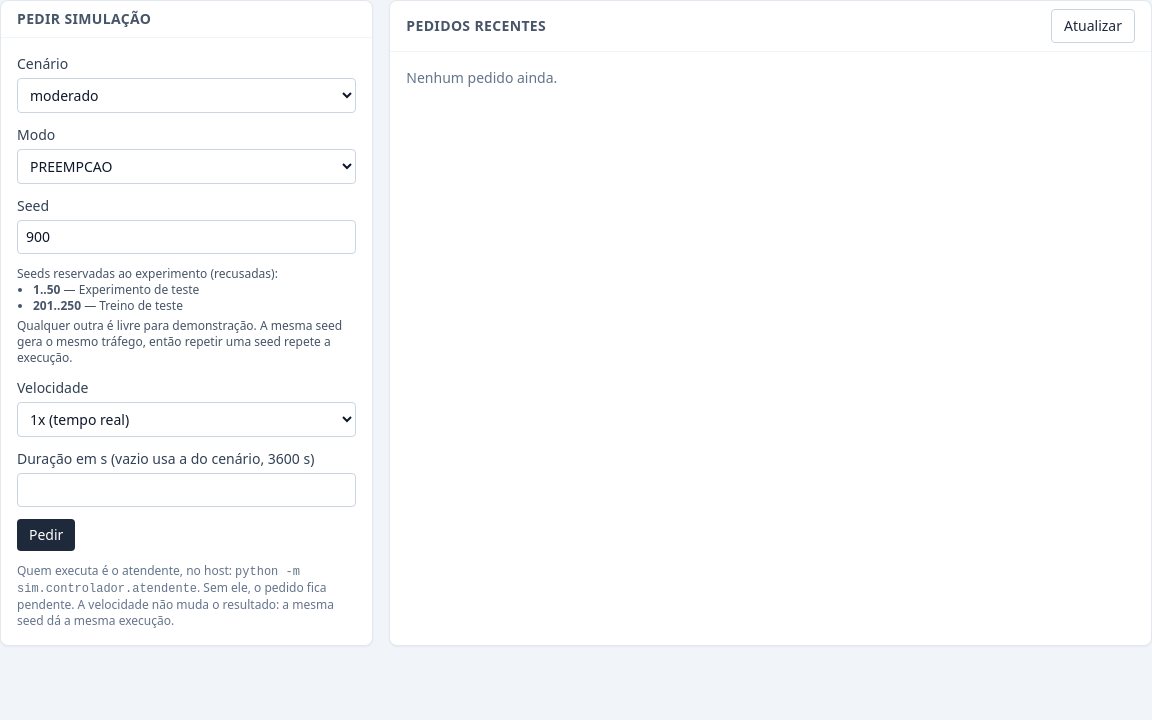
Test: TelaSimulacoes › manda a velocidade escolhida, e a máxima vai como nula
The width and height of the screenshot is (1152, 720).
Select "5x" in the dropdown labelled "Velocidade" at (187, 420), box [17,402,356,437]
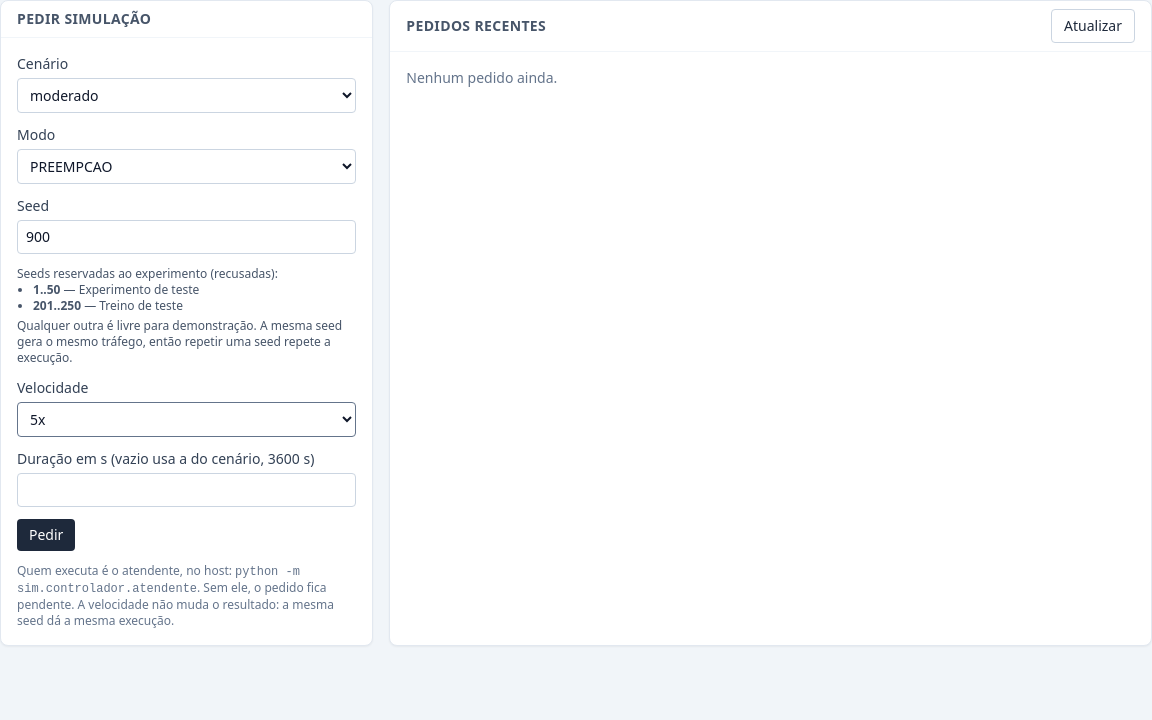
Click the button "Pedir" at (46, 535), box [17,519,75,551]
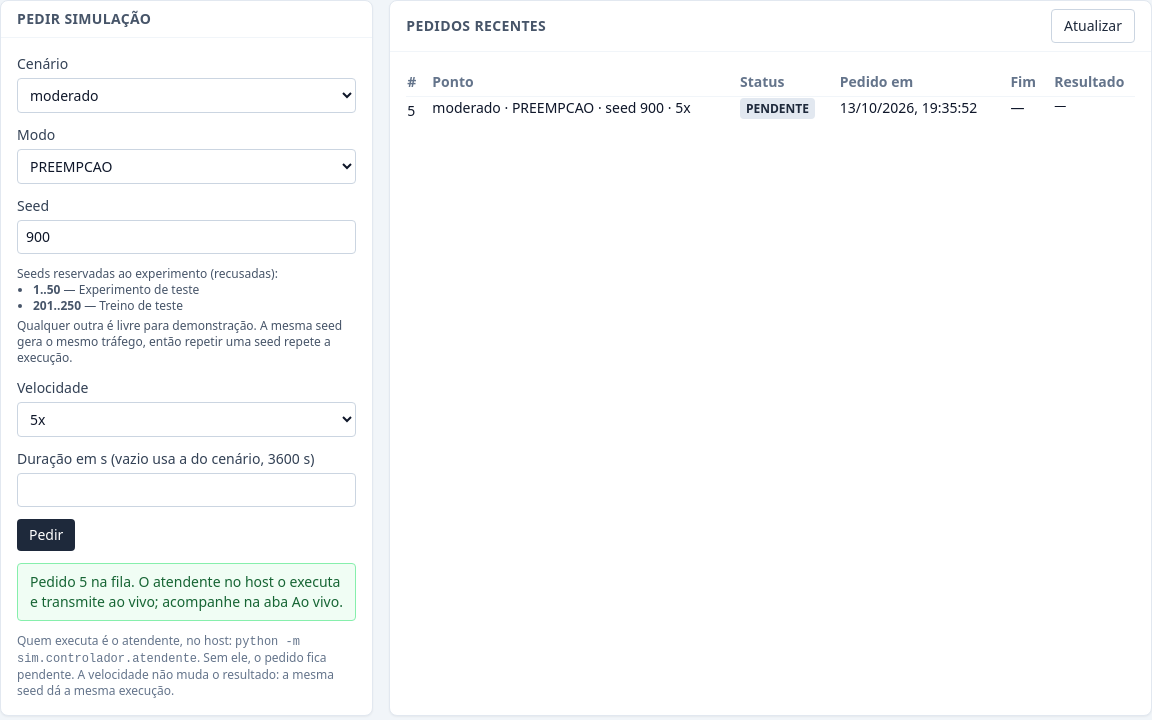
Expected: the text "Pedido 5 na fila" is shown, [30,572,343,611]
Expected: the text "moderado · PREEMPCAO · seed 900 · 5x" is shown, [431,96,739,125]
Select "Máxima (~50x, para não assistir)" in the dropdown labelled "Velocidade" at (187, 420), box [17,402,356,437]
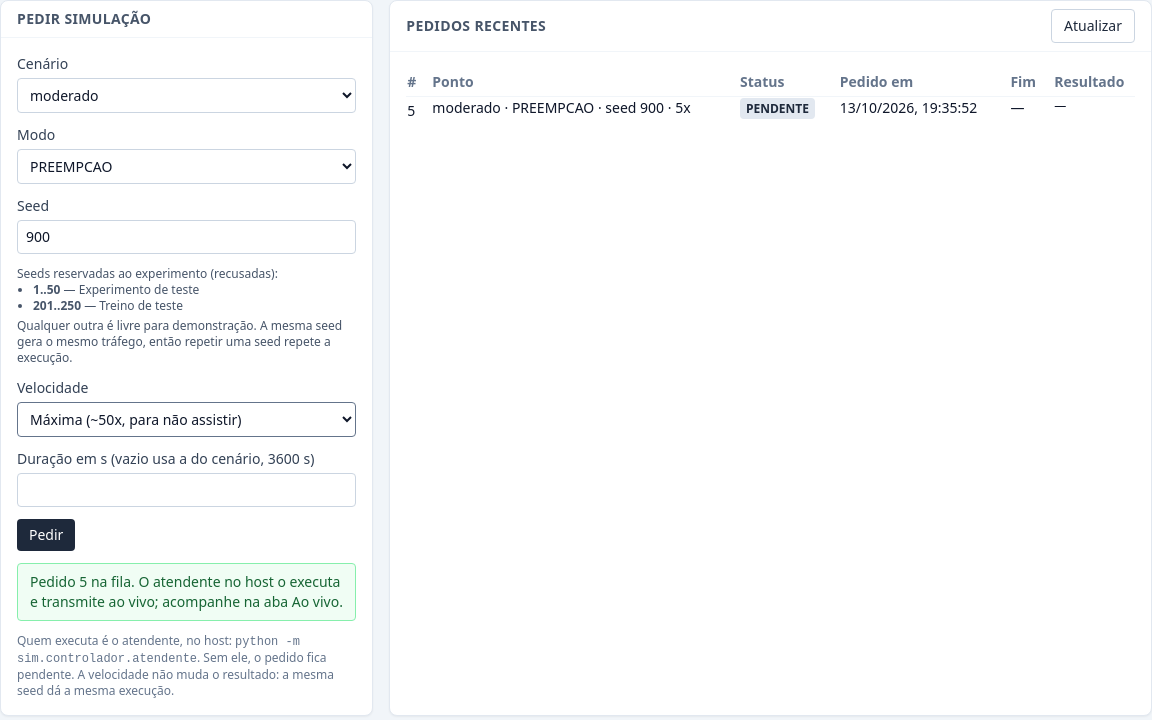
Click the button "Pedir" at (46, 535), box [17,519,75,551]
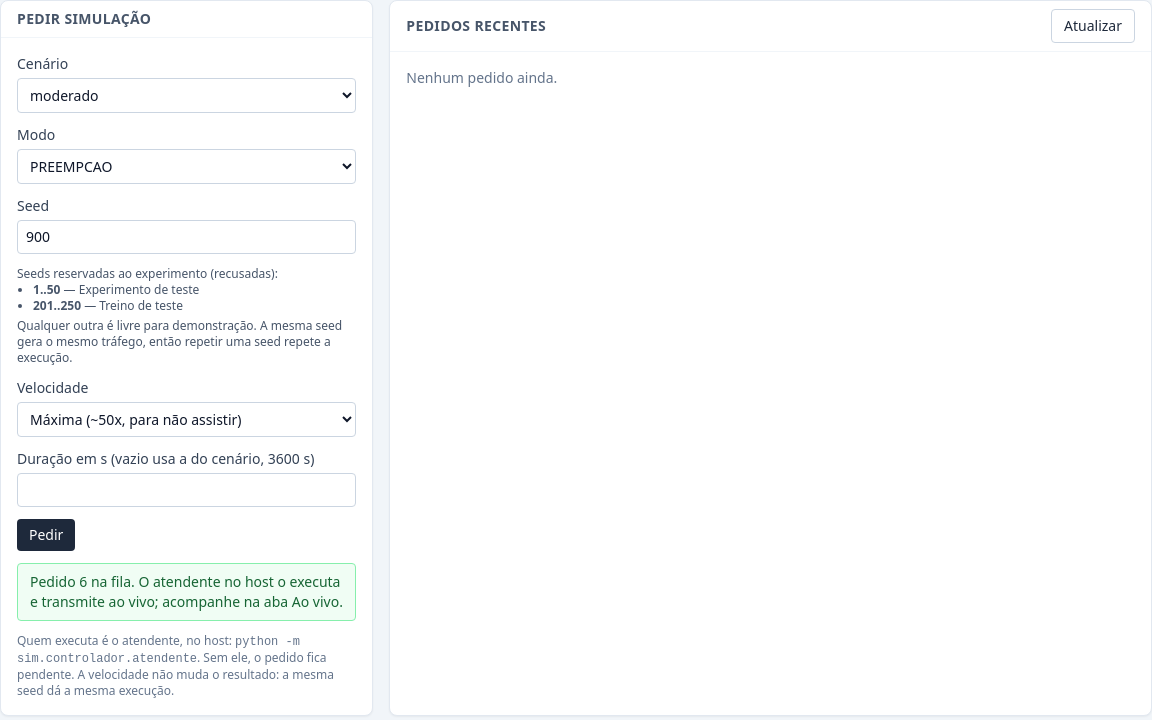
Expected: the text "Pedido 6 na fila" is shown, [30,572,343,611]
